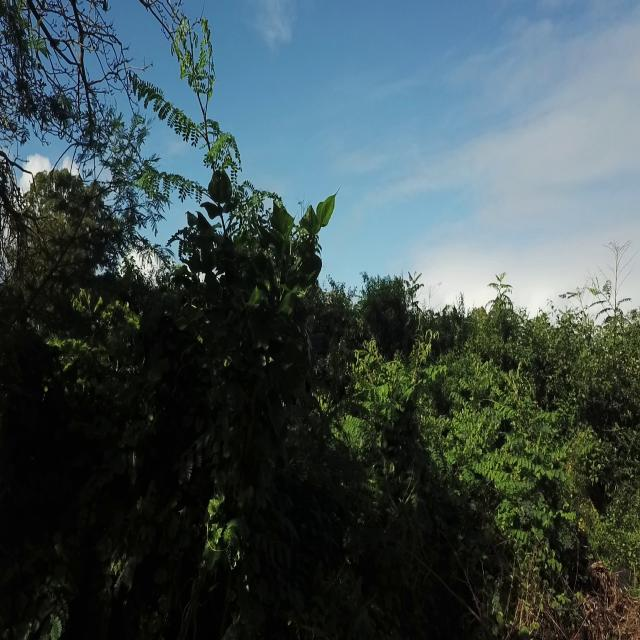Mysore-Thorn-Weed: (128, 18, 262, 282), (490, 392, 570, 556), (445, 364, 503, 473), (28, 576, 71, 640), (484, 270, 516, 326)
